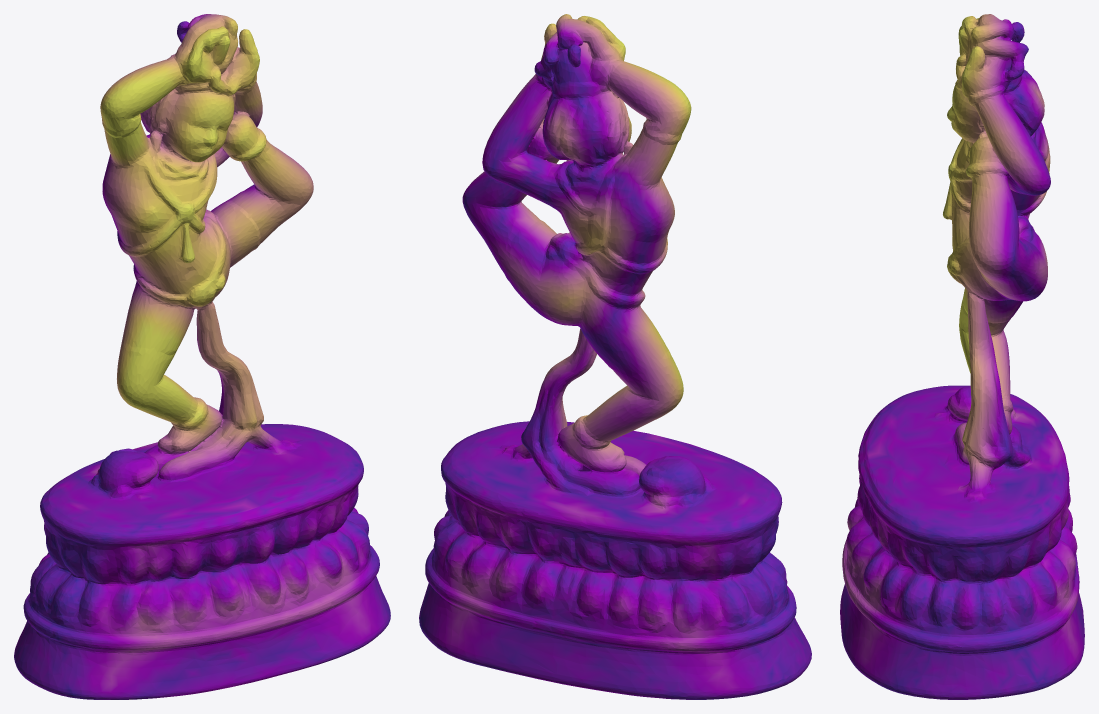
Rendered from iter_16.glb.
The picture shows the model from 3 angles, left to right: view 1: azimuth 30°, elevation 25°; view 2: azimuth 150°, elevation 25°; view 3: azimuth 270°, elevation 25°; orthographic projection. The views are drawn at different scales.
Parts seen in each view (by area): view 1: textured_mesh; view 2: textured_mesh; view 3: textured_mesh.
Part boxes in pixels (x1=…): textured_mesh: x1=14, y1=14, x2=390, y2=699; textured_mesh: x1=419, y1=14, x2=811, y2=699; textured_mesh: x1=840, y1=14, x2=1084, y2=699.
Bounding box in the file's own units: 1.2 × 1.99 × 0.7228.
